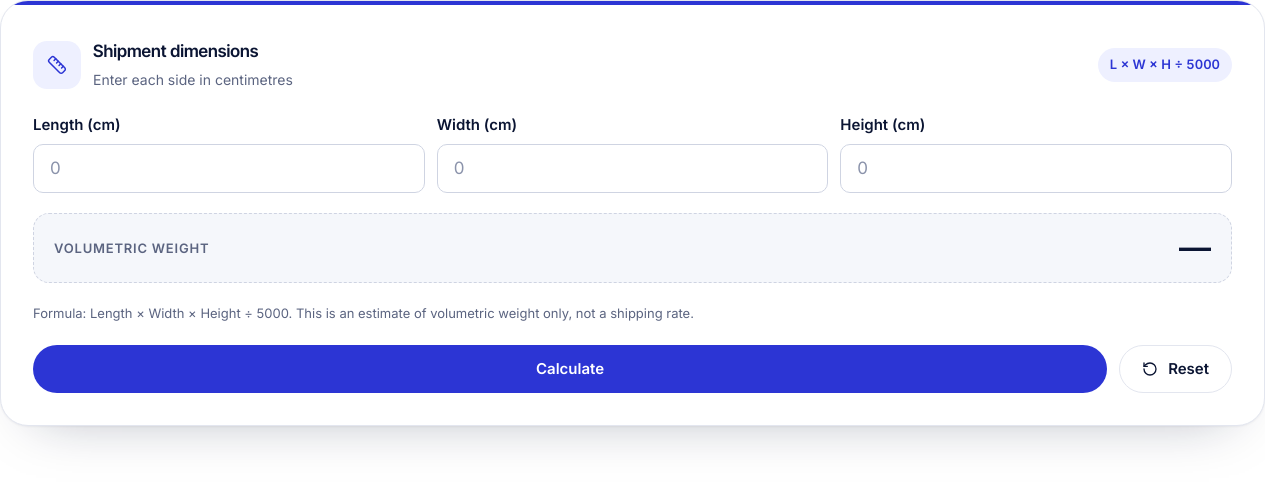
Test case: <VolumeCalculator> › explains invalid input instead of calculating
Type "abc" into the field labelled "Length (cm)".
click(229, 168); type("abc")  # box [33, 144, 425, 193]
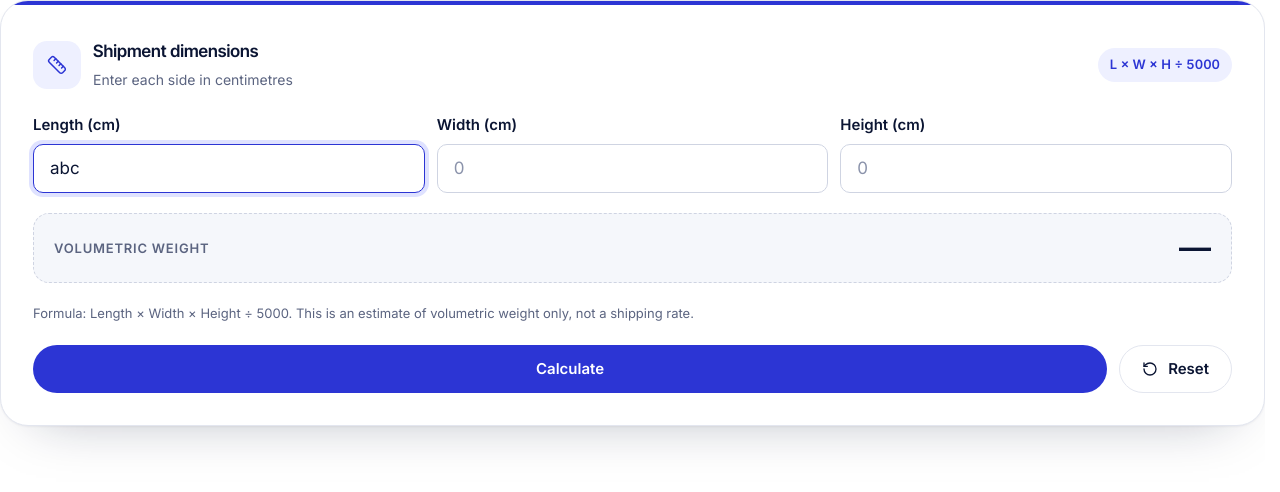
Click the button "Calculate".
click(570, 369)  # box [33, 345, 1107, 393]
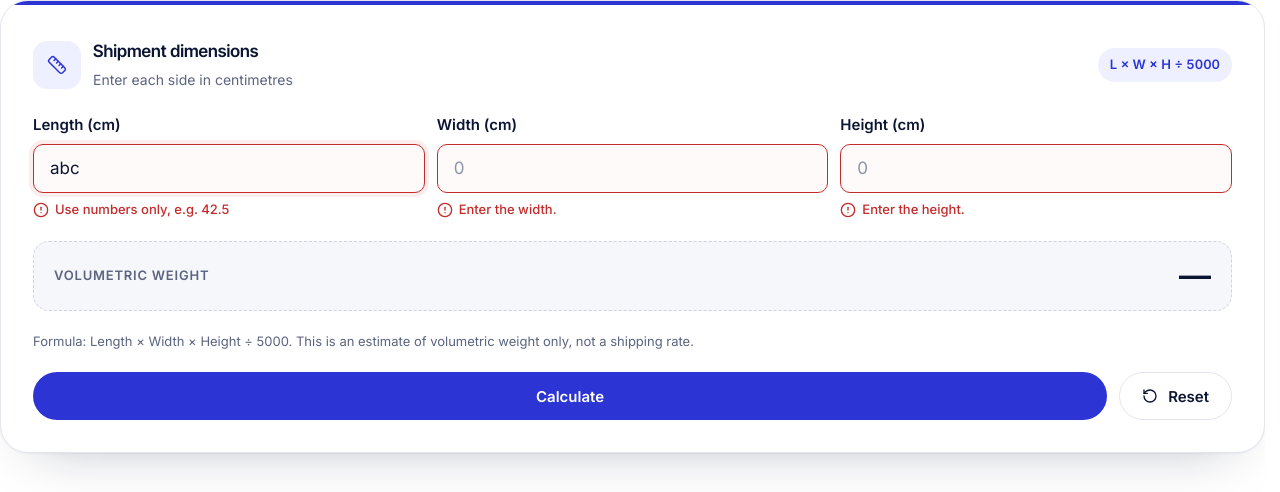
Expected: the text "Use numbers only, e.g. 42.5" is shown, [33, 201, 229, 218]
Expected: the text "Enter the width." is shown once, [437, 201, 557, 218]
